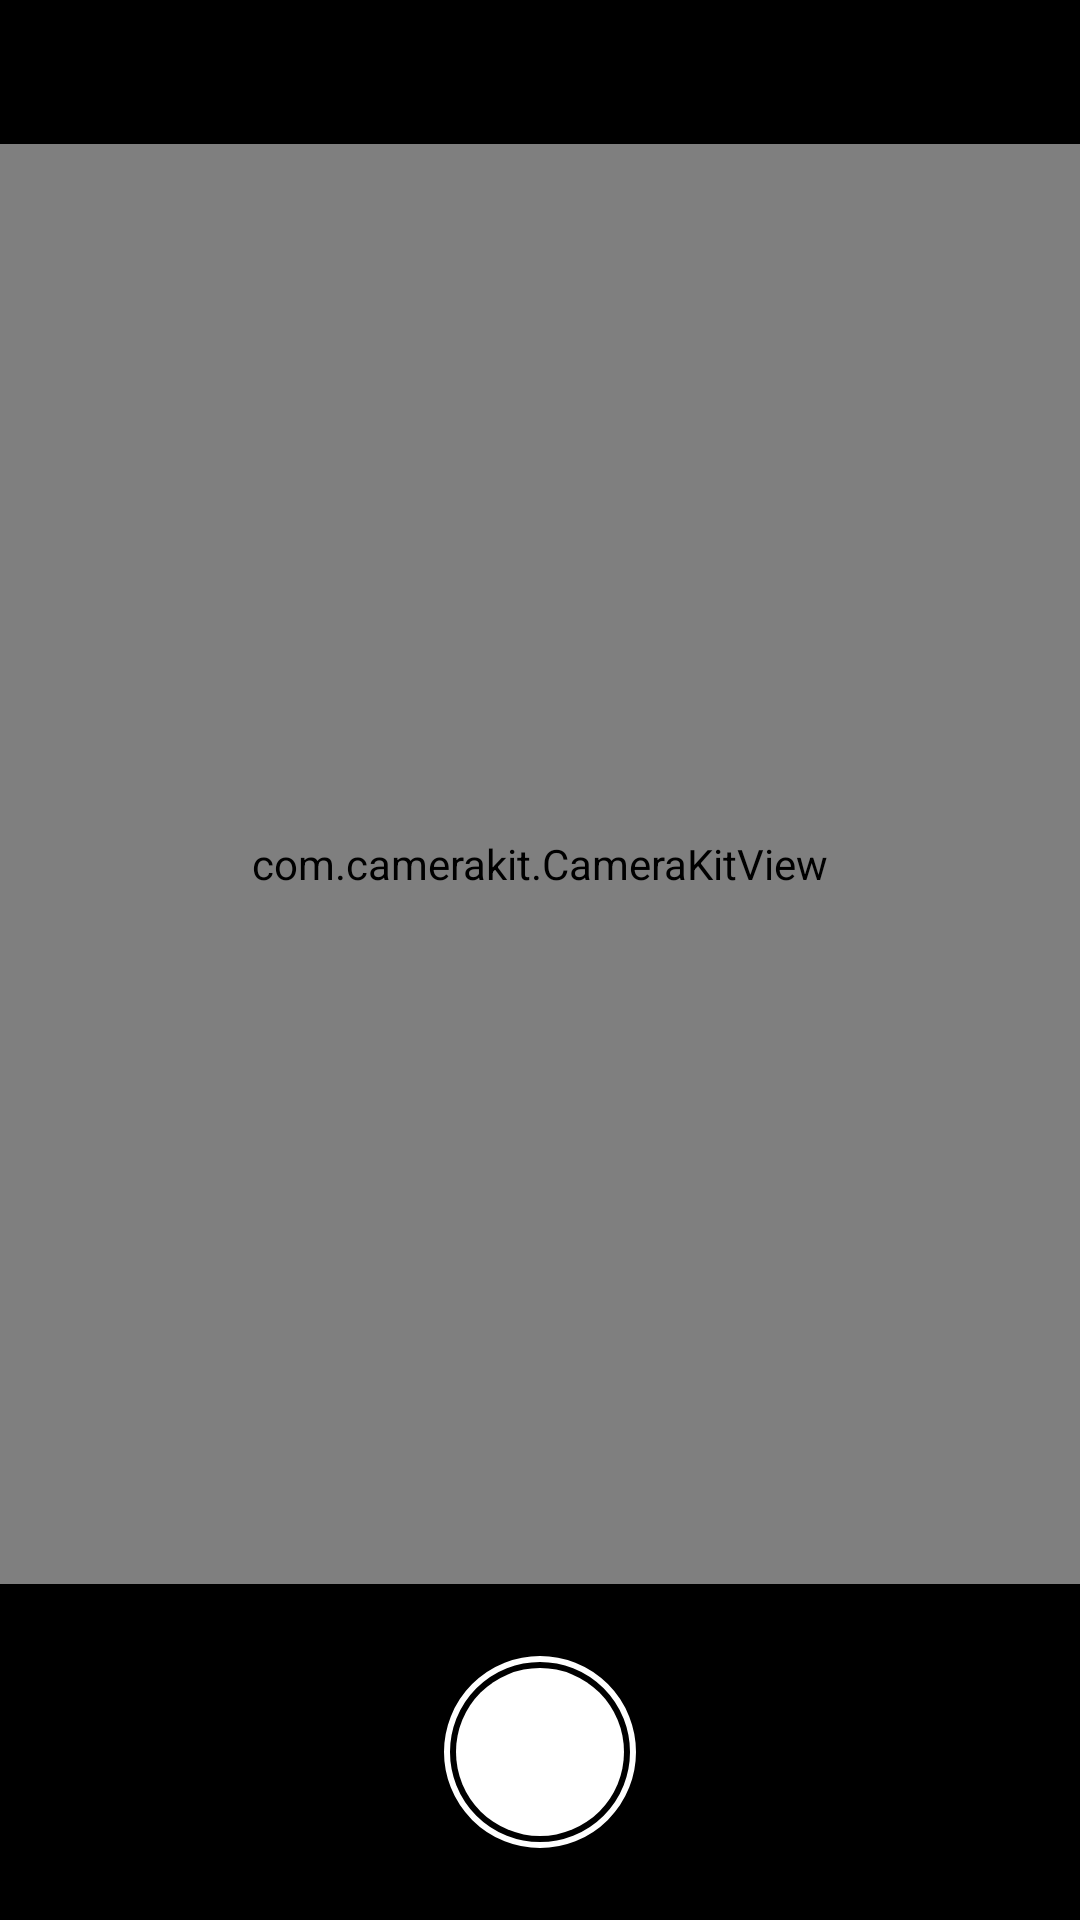

Where icons sit on this 1080 × 1920 app screen, as bbox(x1, y1, x2, y2):
camera circle: bbox(444, 1656, 636, 1848)
